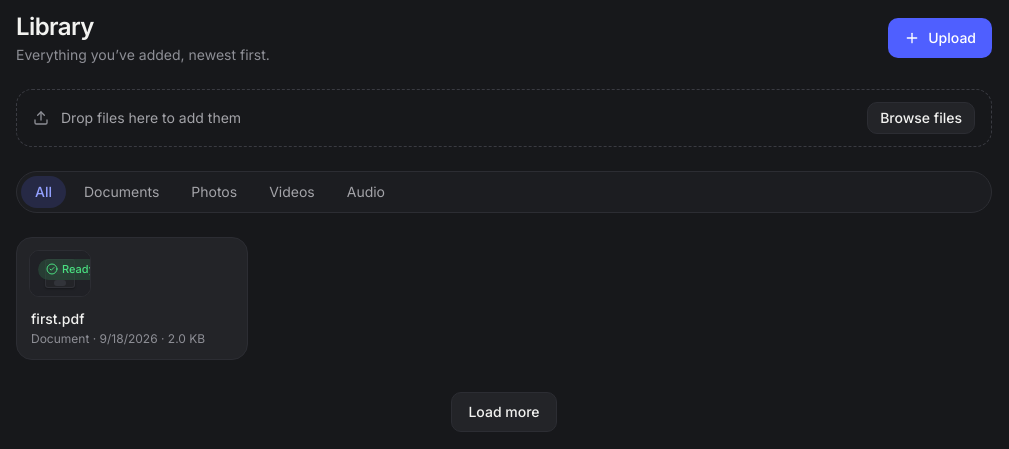
LibraryPage › loads more with the API cursor
Click the button "Load more" at [504, 412], box [451,392,556,432]
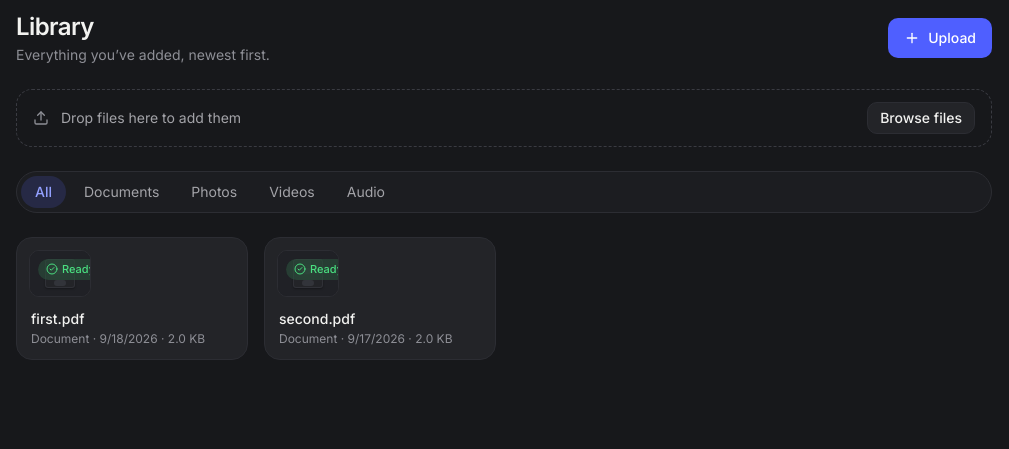
Check: the text "second.pdf" is shown, box [279,310,355,327]
Check: the button "Load more" is gone
